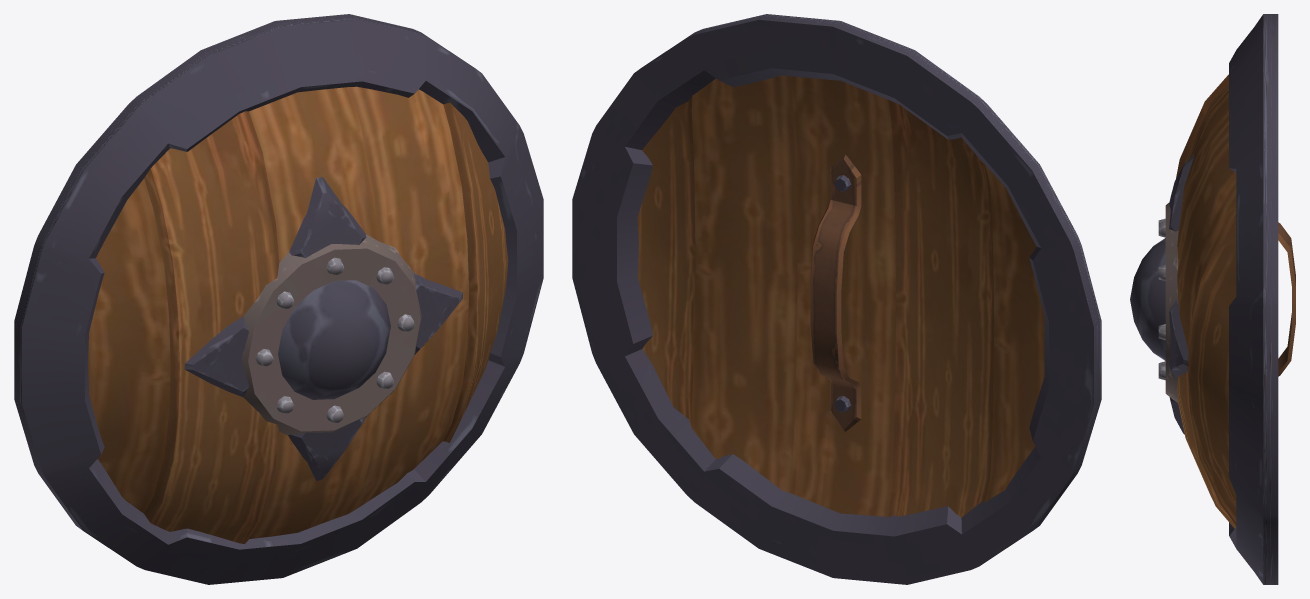
File: Shield_Wooden.gltf
3 views of the same model, side by side, from view 1: azimuth 30°, elevation 25°; view 2: azimuth 150°, elevation 25°; view 3: azimuth 270°, elevation 25° (orthographic). The views are drawn at different scales.
Parts seen in each view (by area): view 1: Shield_Wooden; view 2: Shield_Wooden; view 3: Shield_Wooden.
Boxes of the visible parts, x1,y1,x2,y2 form: Shield_Wooden: (14, 14, 543, 584); Shield_Wooden: (572, 14, 1101, 584); Shield_Wooden: (1130, 14, 1295, 584).
Bounding box in the file's own units: 0.6146 × 0.6209 × 0.1788.
3 materials, 3 textured.
